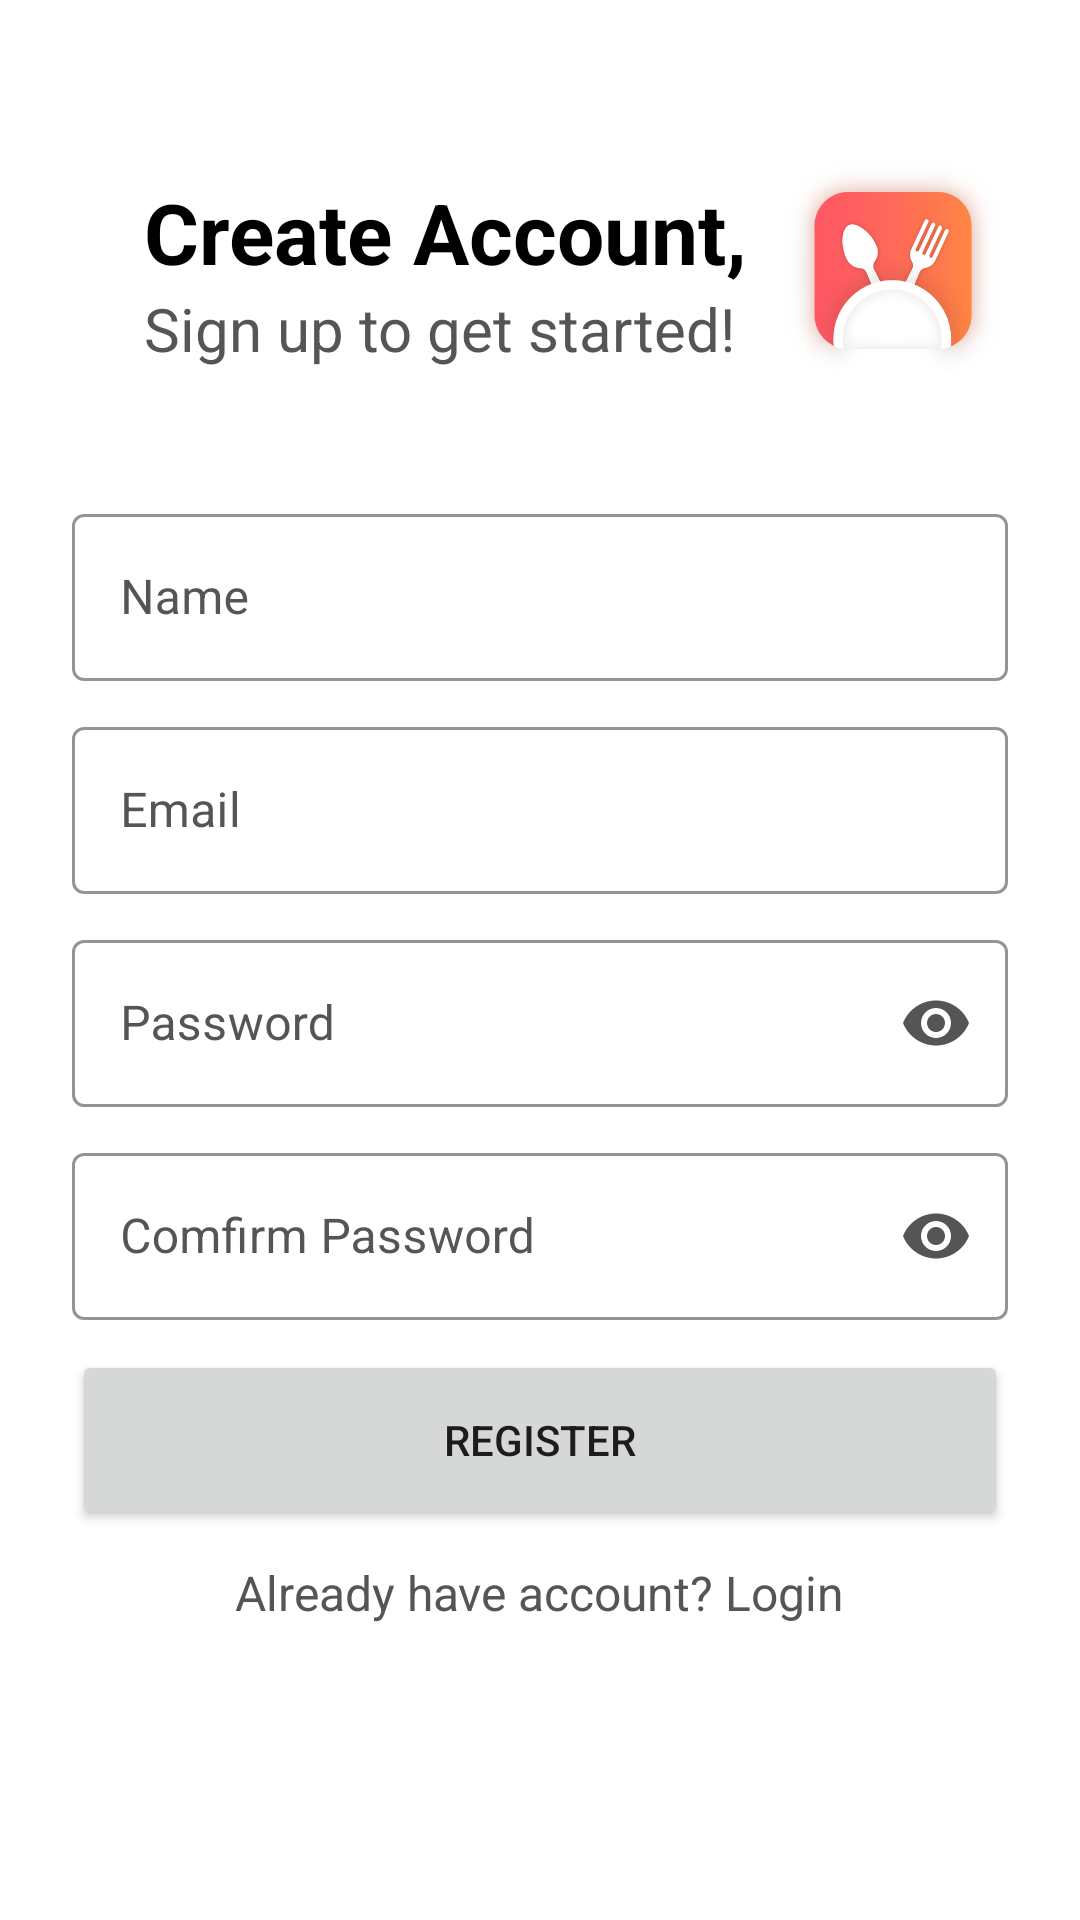

Icons on this 1080x1920 Android screen, each with its box as (x1, y1, x2, y2):
symbol: (806, 183, 980, 349)
